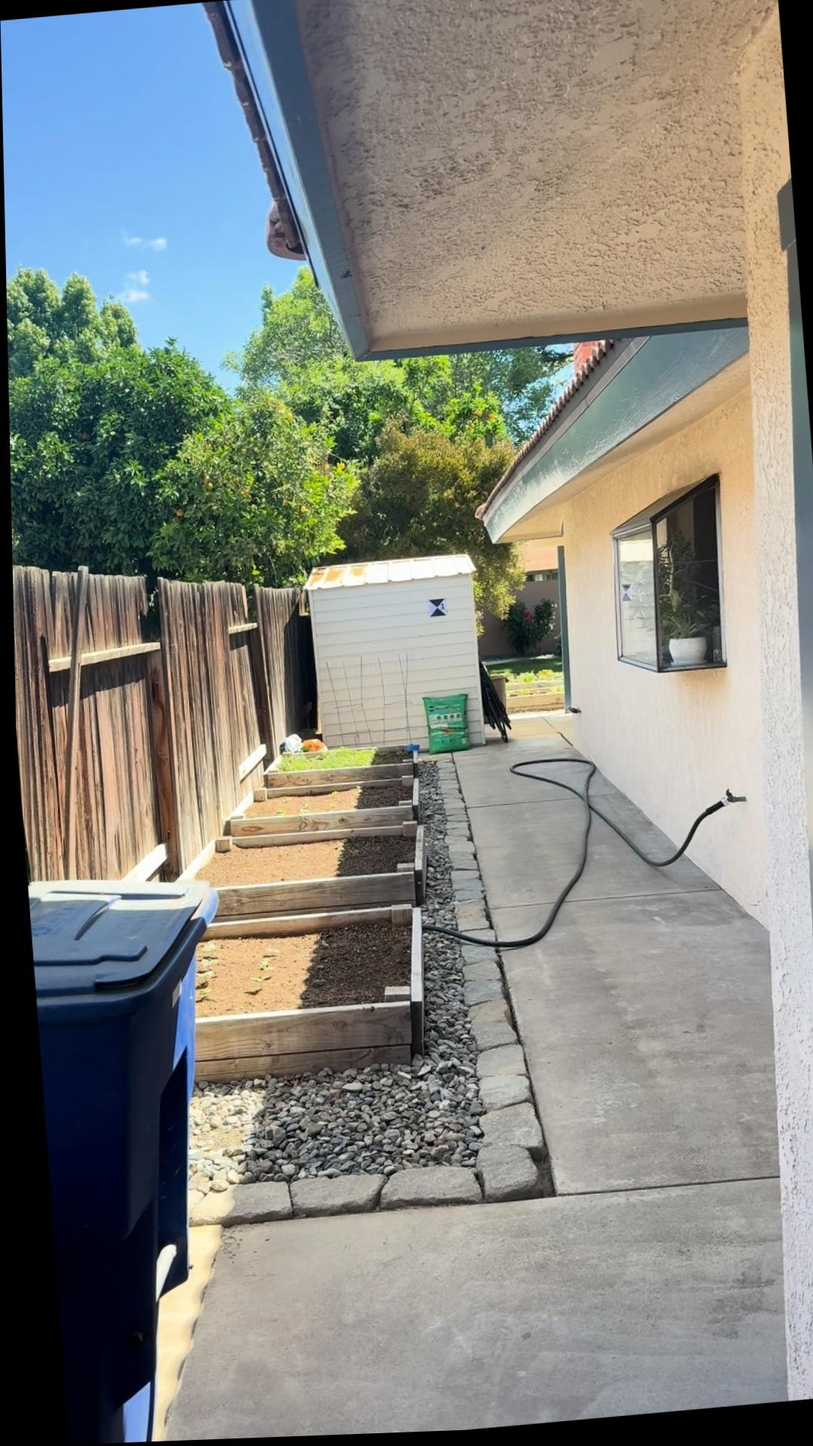target1: (424, 595, 448, 618)
